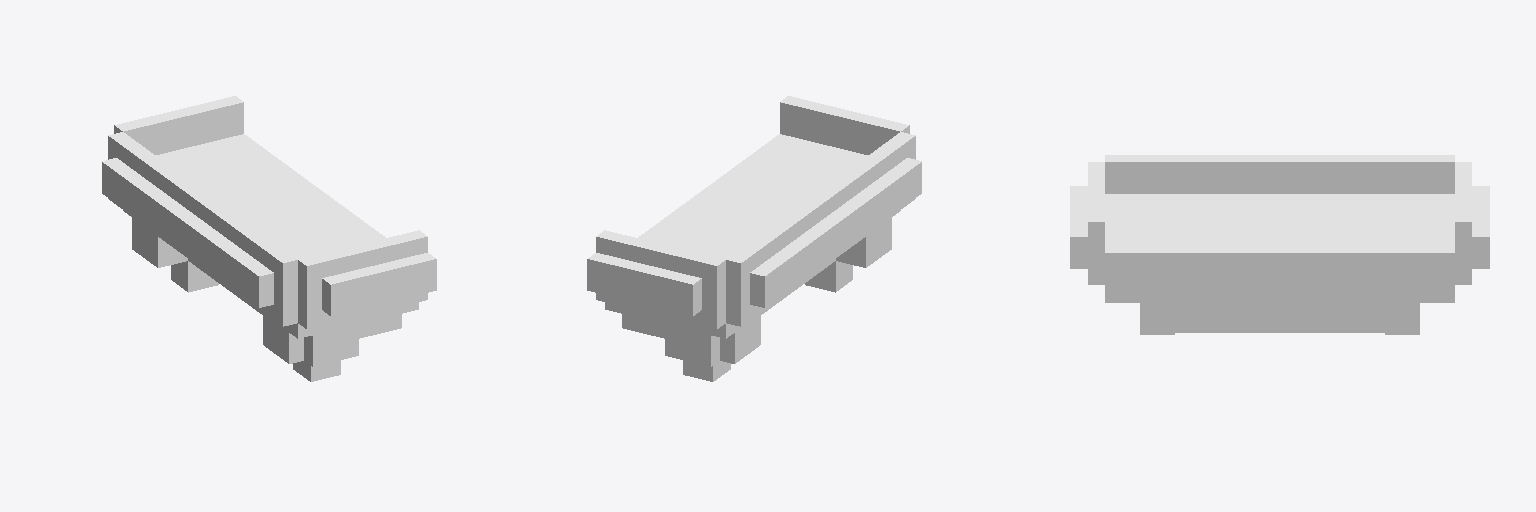
Rendered from BouncyFront.obj.
3 renders of one model, left to right at view 1: azimuth 30°, elevation 25°; view 2: azimuth 150°, elevation 25°; view 3: azimuth 270°, elevation 25°, orthographic.
Size of the model in its own units: 10 by 9 by 24.